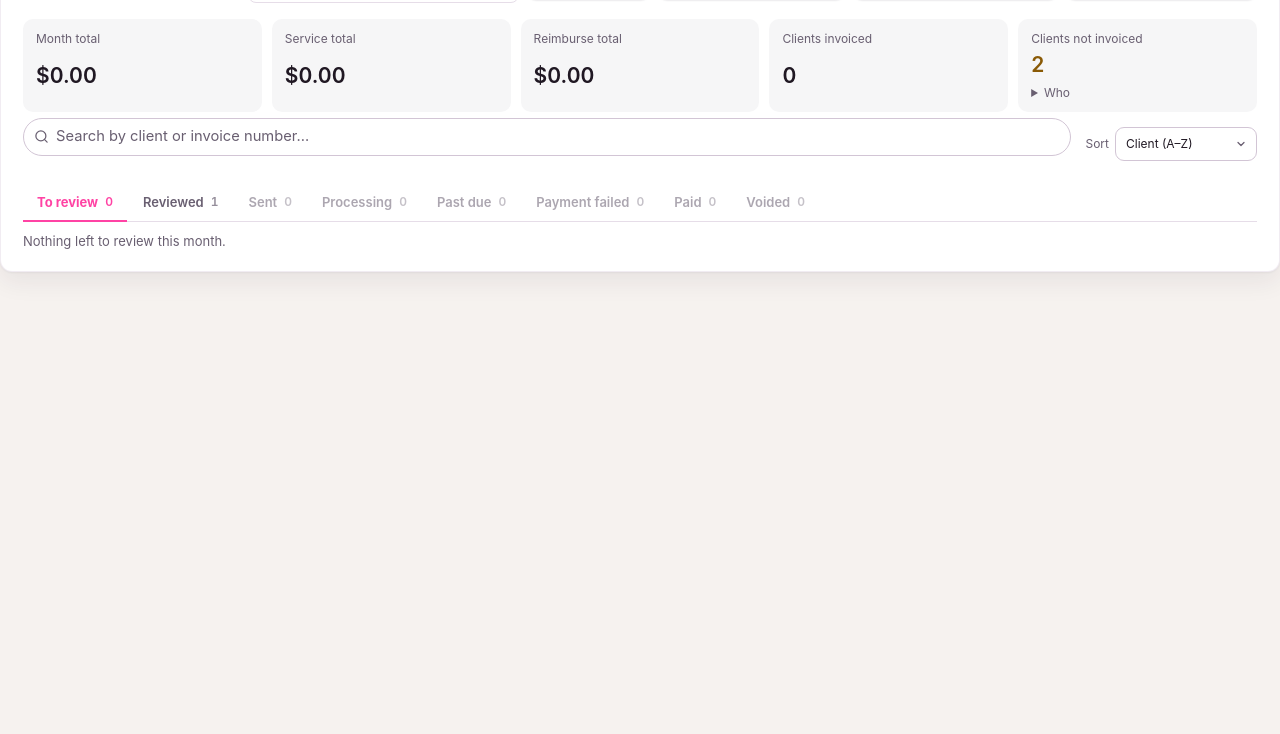
the month run lists the addressed company's addresses for a billing master › leaves an ordinary client with its own addresses, as before
Click the tab "Reviewed 1" at (181,203), box 129,184 -> 232,222
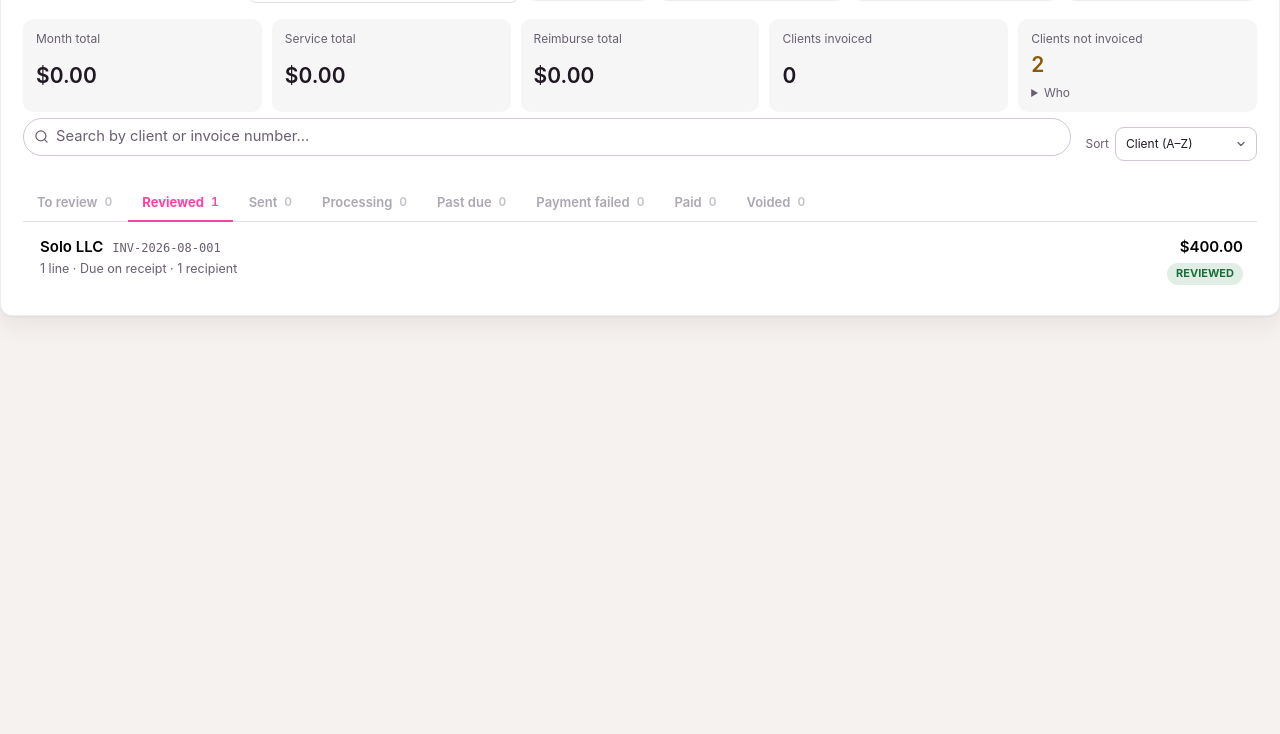
Click the text "INV-2026-08-001" at (166,249), box 112,240 -> 221,258
(page scrolled)
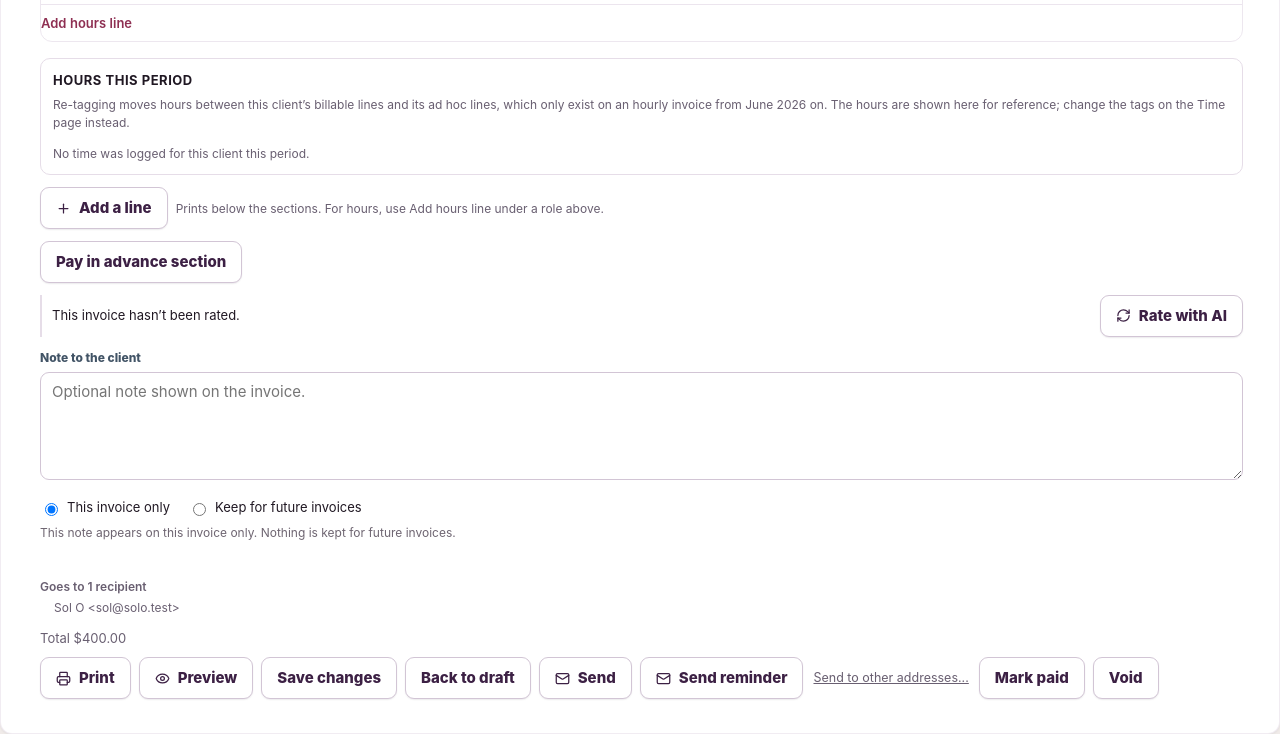
Check: the list item "Sol O <sol@solo.test>" is shown, box 54,600 -> 180,615
